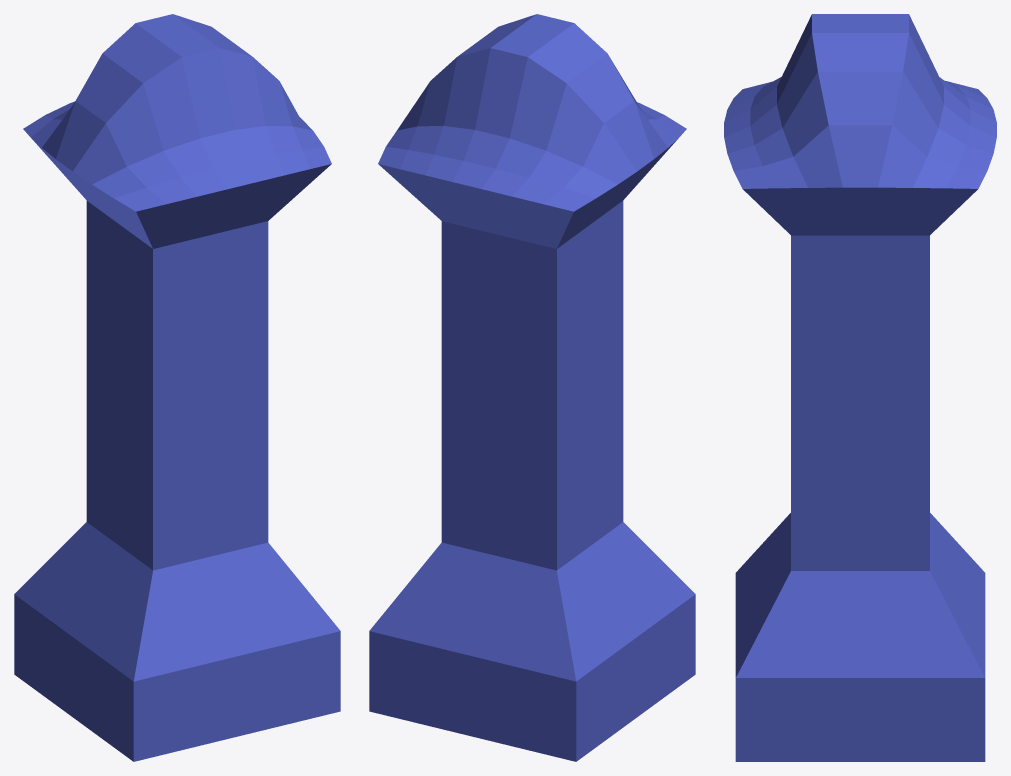
Rendered from queen.fbx.
3 renders of one model, left to right at view 1: azimuth 30°, elevation 25°; view 2: azimuth 150°, elevation 25°; view 3: azimuth 270°, elevation 25°, orthographic. The views are drawn at different scales.
Parts seen in each view (by area): view 1: Cube; view 2: Cube; view 3: Cube.
Part boxes in pixels (<box>): Cube: <box>14,14,340,761</box>; Cube: <box>369,14,695,761</box>; Cube: <box>724,14,996,761</box>.
Bounding box in the file's own units: 393 × 1090 × 393.
